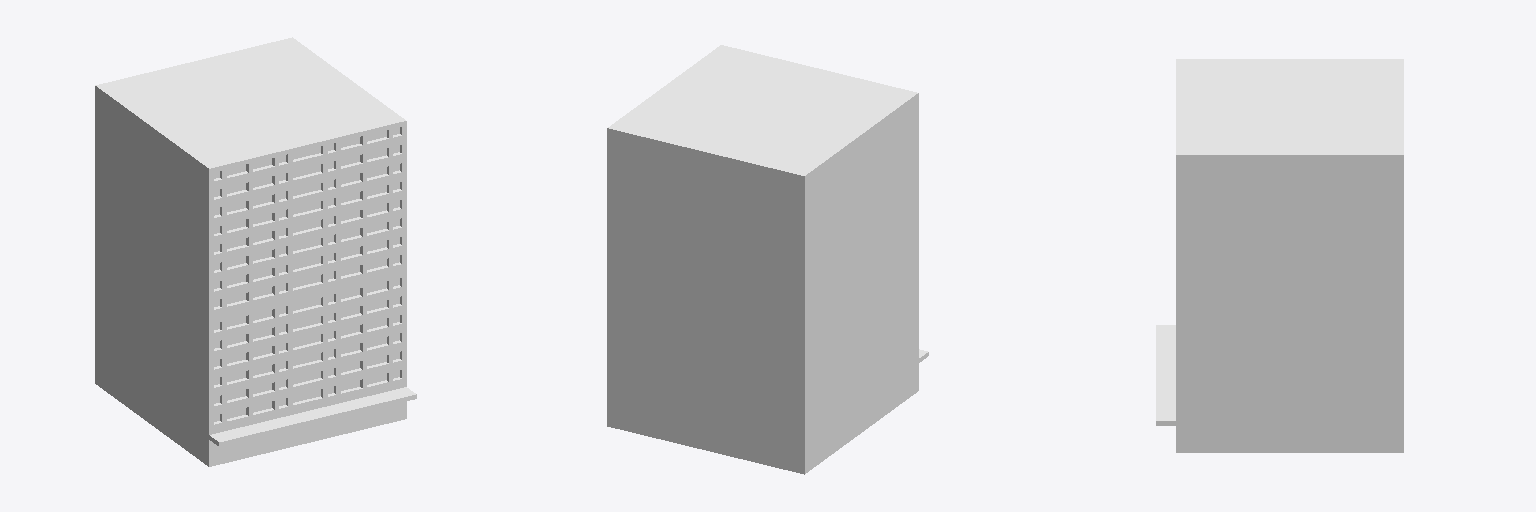
Rendered from bldg-white.obj.
3 views of the same model, side by side, from view 1: azimuth 30°, elevation 25°; view 2: azimuth 150°, elevation 25°; view 3: azimuth 270°, elevation 25° (orthographic).
Size of the model in its own units: 45 by 65 by 49.